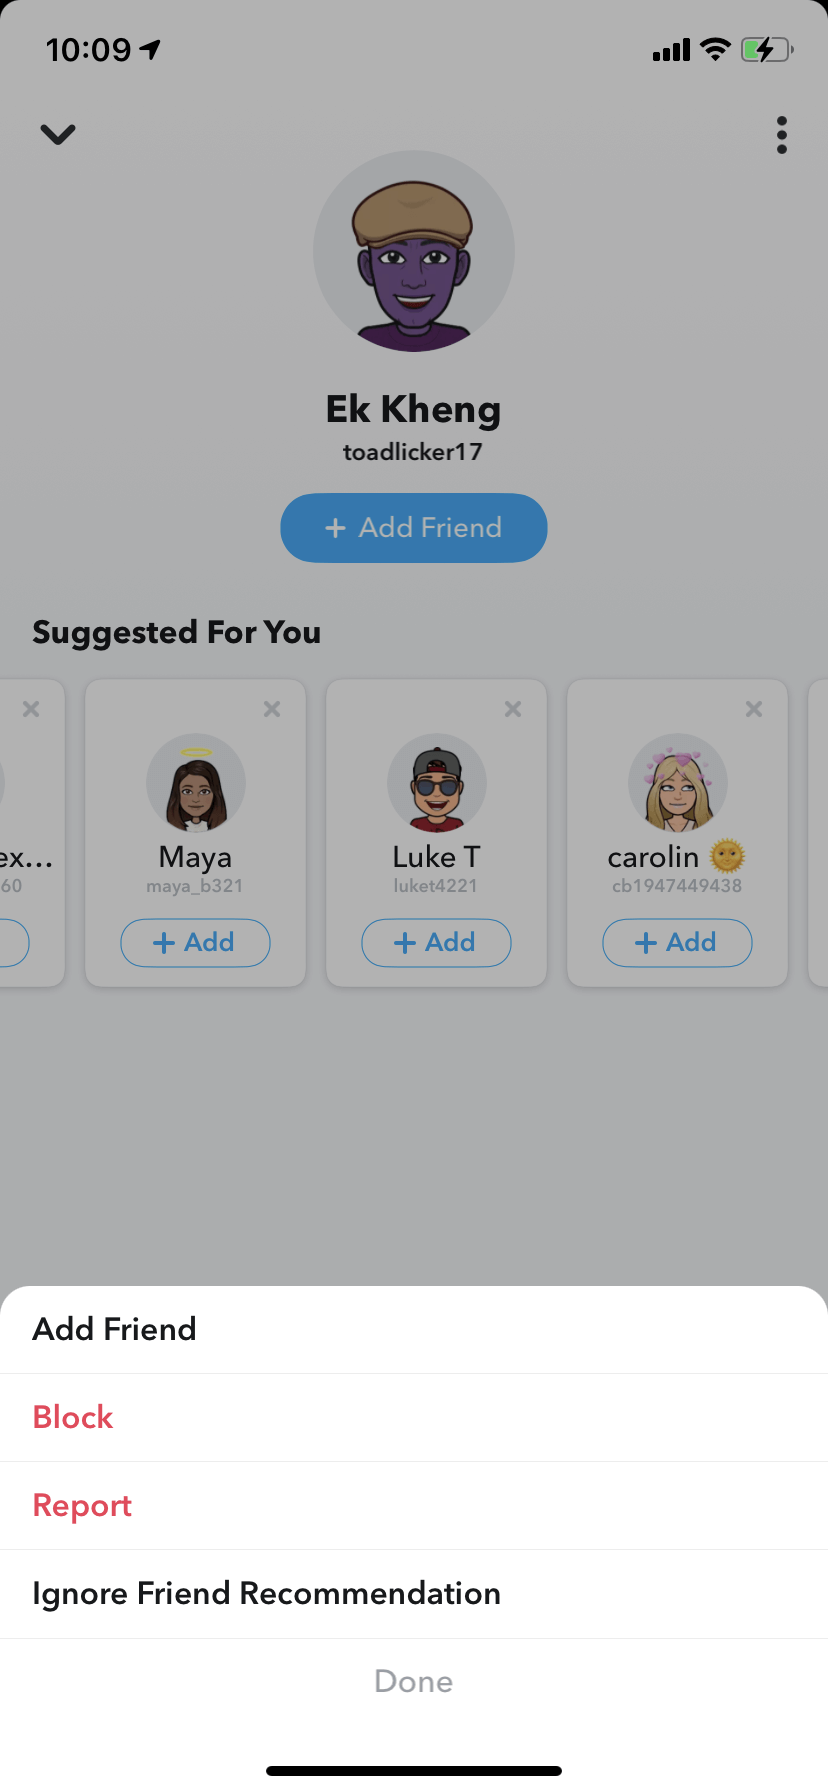Buttons: (272, 482, 557, 571), (590, 904, 762, 976), (350, 903, 517, 976), (113, 902, 278, 975), (335, 1650, 505, 1717), (23, 95, 95, 175), (747, 96, 815, 177), (250, 688, 292, 728), (13, 687, 51, 729), (731, 691, 769, 731), (493, 690, 532, 728)
